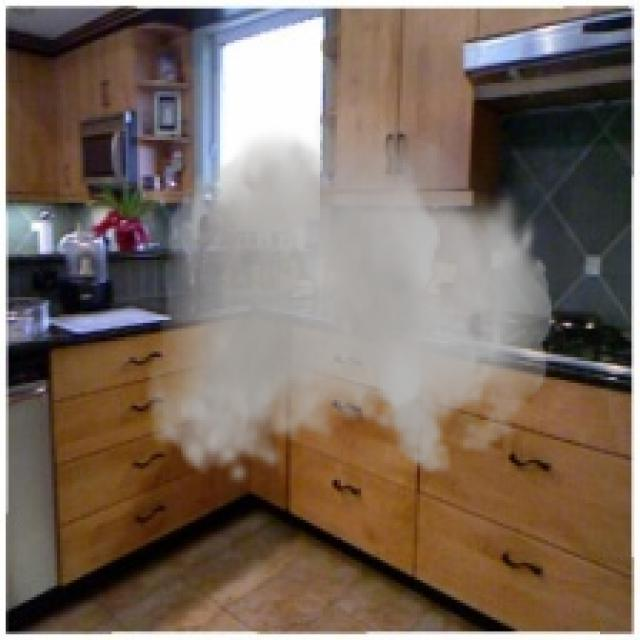smoke: (146, 80, 551, 486)
